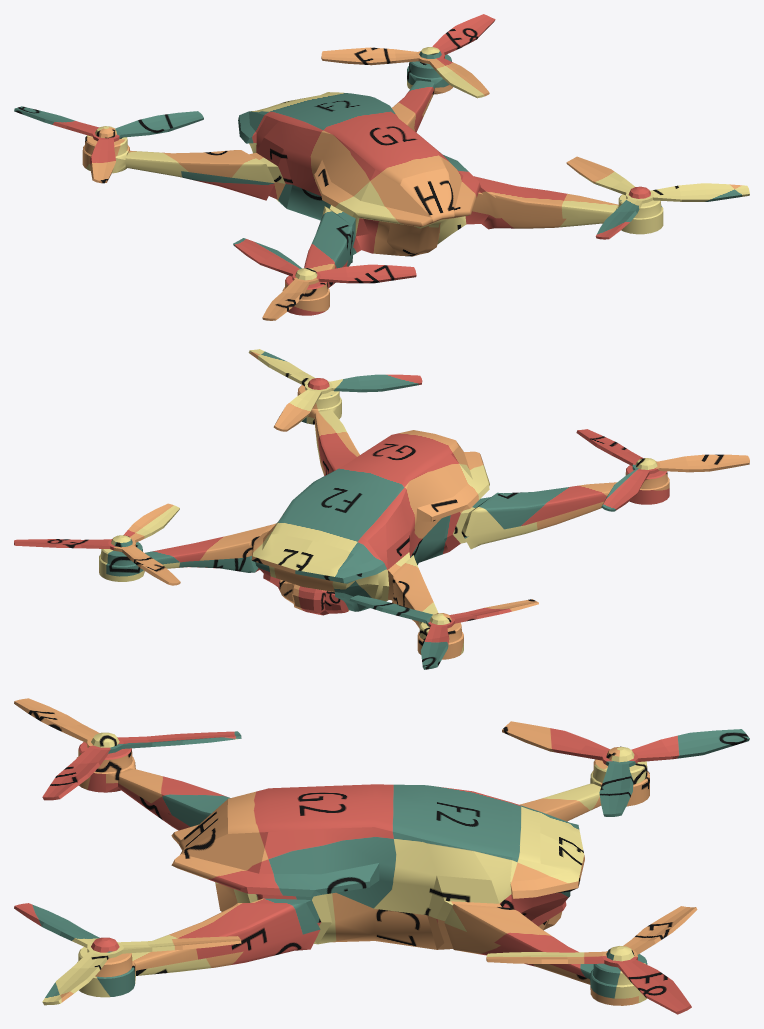
The model's file is drone_model.fbx.
The picture shows the model from 3 angles, top to bottom: view 1: azimuth 30°, elevation 25°; view 2: azimuth 150°, elevation 25°; view 3: azimuth 270°, elevation 25°; orthographic projection. The views are drawn at different scales.
Parts seen in each view (by area): view 1: drone_body, propeller, propeller2, propeller4, propeller3; view 2: drone_body, propeller4, propeller2, propeller, propeller3, camera; view 3: drone_body, propeller3, propeller, propeller2, propeller4.
Boxes of the visible parts, x1,y1,x2,y2 form: drone_body: (82,47,663,315); propeller: (321,14,495,98); propeller2: (233,238,416,320); propeller4: (566,156,749,239); propeller3: (14,106,203,183); drone_body: (99,378,669,659); propeller4: (248,349,422,431); propeller2: (576,429,749,511); propeller: (14,503,180,585); propeller3: (349,595,538,669); camera: (279,579,349,615); drone_body: (77,732,649,1005); propeller3: (502,721,749,816); propeller: (486,906,697,1014); propeller2: (14,698,241,800); propeller4: (14,903,241,1005).
Size of the model in its own units: 24.25 by 4.91 by 24.71.
Materials: 1 (1 with a texture image).
